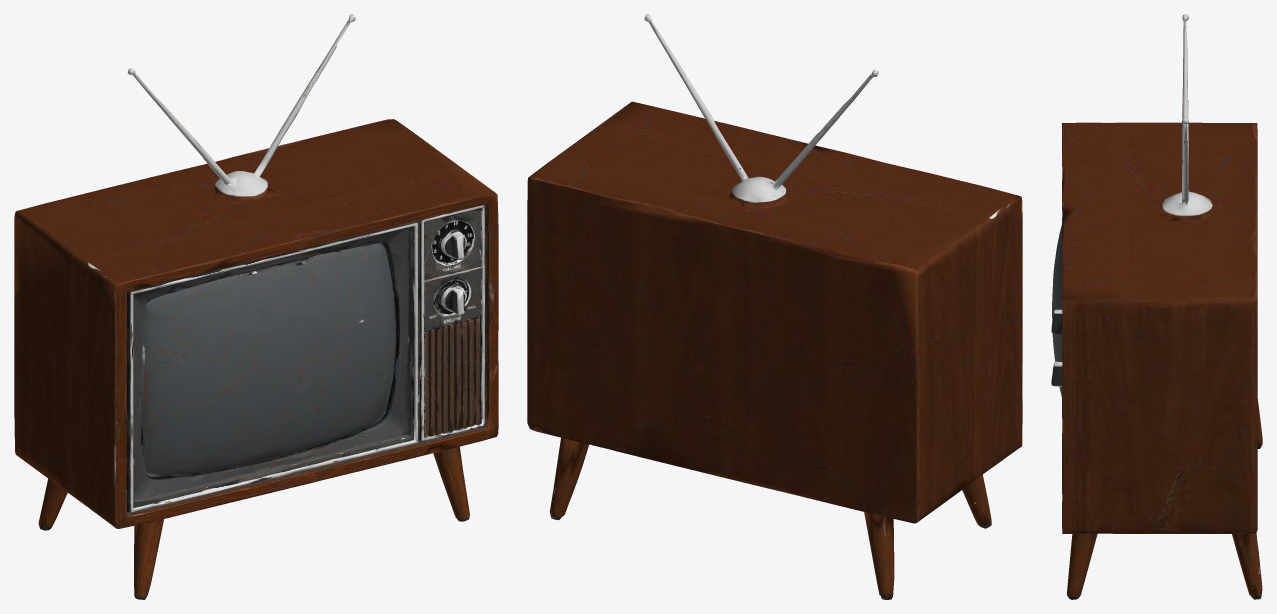
3 renders of one model, left to right at view 1: azimuth 30°, elevation 25°; view 2: azimuth 150°, elevation 25°; view 3: azimuth 270°, elevation 25°, orthographic. The views are drawn at different scales.
Bounding box in the file's own units: 1.61 × 1.9 × 0.7981.
1 material, 1 textured.
